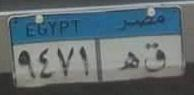1: (78, 44, 88, 79)
4: (19, 48, 35, 79), (39, 47, 51, 81)
7: (55, 42, 74, 78)
haa: (121, 48, 142, 73)
qaaf: (143, 39, 167, 76)
